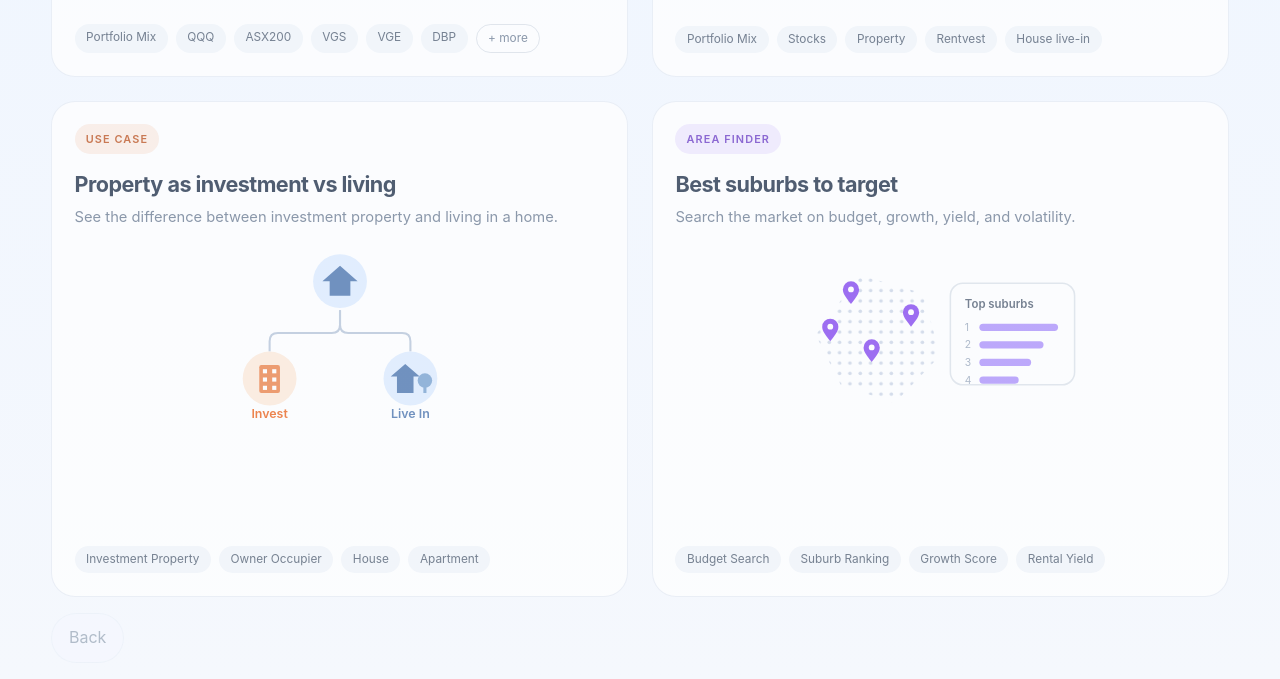
Test: WealthPathwaysWorkbookDetail › shows only housing inputs for the property investment vs living mode
The image size is (1280, 679).
(page scrolled)
Click the button with test id "interest-mode-propertyInvestmentVsLiving".
click(340, 131)  # box [51, 101, 628, 597]
(page scrolled)
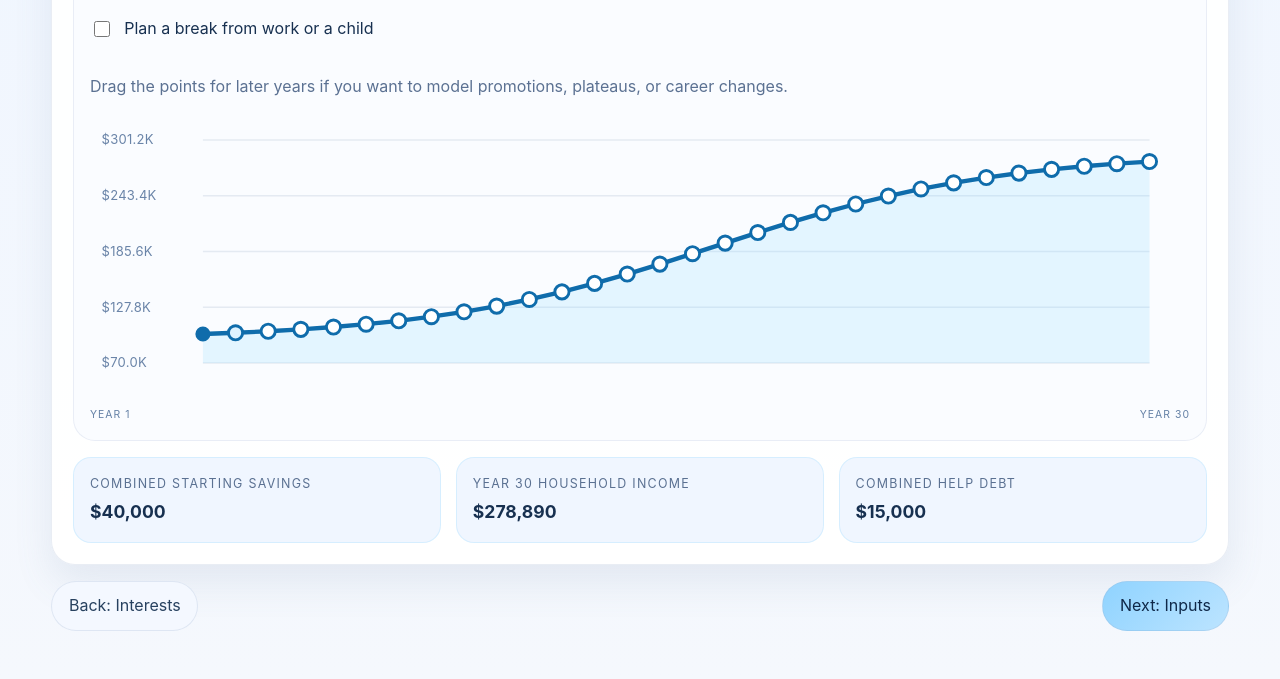
Expected: the button "Next: Inputs" is shown
Click the button "Next: Inputs".
click(1166, 606)  # box [1102, 581, 1229, 631]
(page scrolled)
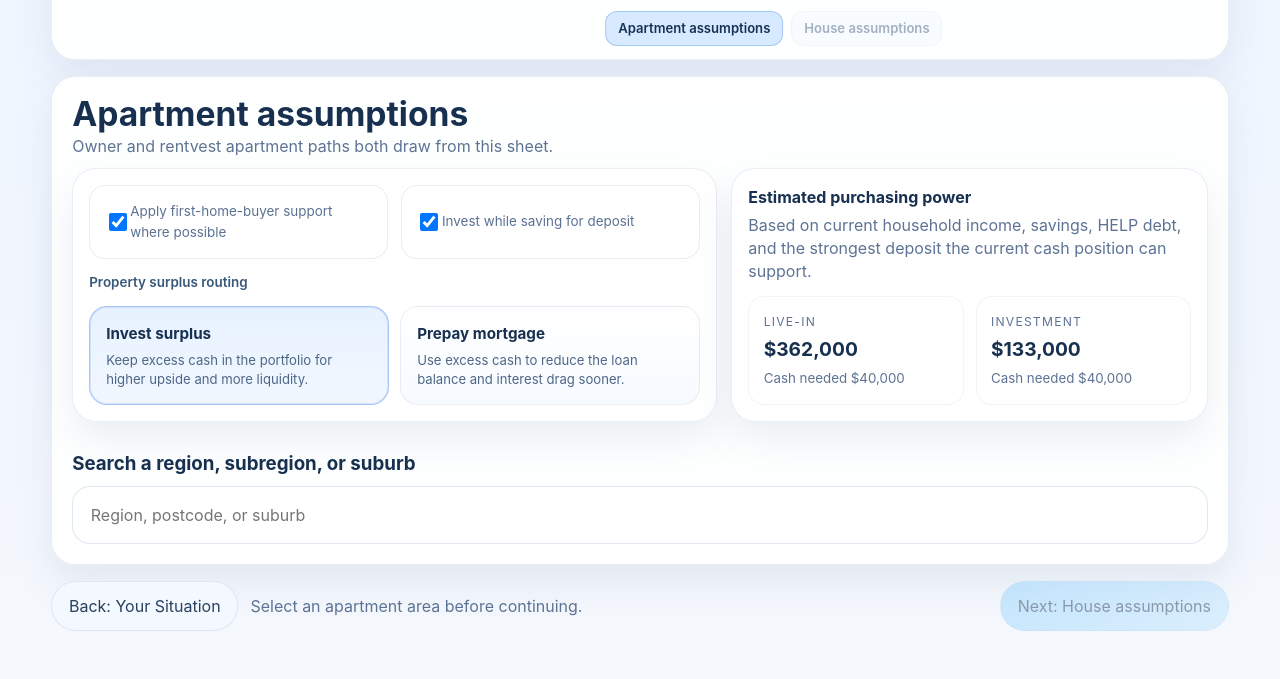
Expected: the text "Apartment assumptions" is shown, [605, 11, 783, 46]
